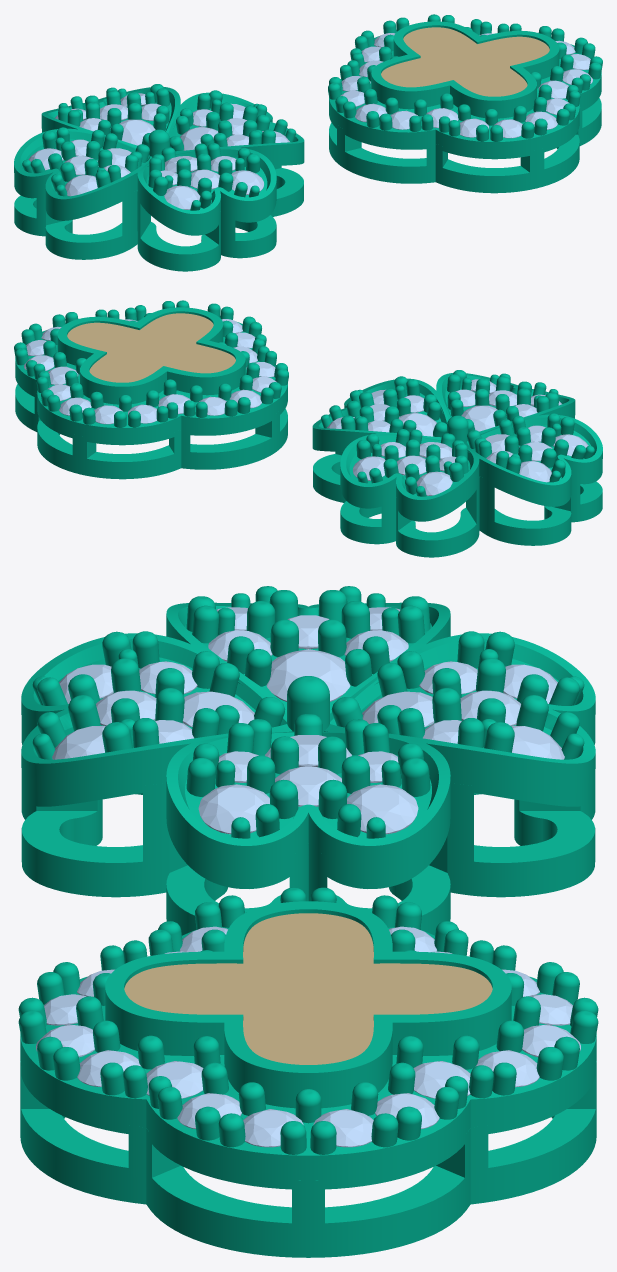
3 renders of one model, top to bottom at view 1: azimuth 30°, elevation 25°; view 2: azimuth 150°, elevation 25°; view 3: azimuth 270°, elevation 25°, orthographic. The views are drawn at different scales.
Parts seen in each view (by area): view 1: VANCLEEF 001(EARRING) 003.3dm, Diamond_Round (×9); view 2: VANCLEEF 001(EARRING) 003.3dm, Diamond_Round (×9); view 3: VANCLEEF 001(EARRING) 003.3dm, Diamond_Round (×28), Prong On Surface (×20).
Part boxes in pixels (box(x1,y1,x2,y2)): VANCLEEF 001(EARRING) 003.3dm: box(14, 21, 601, 271); Diamond_Round (×9): box(65, 110, 522, 209); VANCLEEF 001(EARRING) 003.3dm: box(15, 307, 602, 557); Diamond_Round (×9): box(94, 396, 551, 495); VANCLEEF 001(EARRING) 003.3dm: box(20, 602, 596, 1257); Diamond_Round (×28): box(36, 630, 580, 1147); Prong On Surface (×20): box(68, 601, 548, 818).
Size of the model in its own units: 3.62 by 0.4994 by 1.63.
